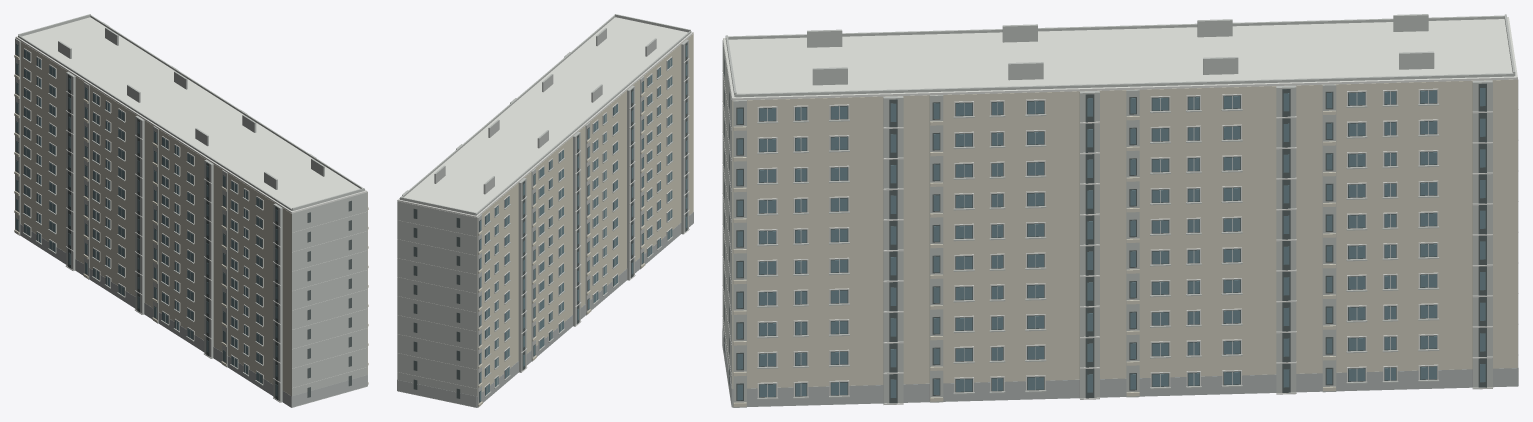
File: bespoke-olympic-athletes-village-228.glb
The picture shows the model from 3 angles, left to right: view 1: azimuth 30°, elevation 25°; view 2: azimuth 150°, elevation 25°; view 3: azimuth 270°, elevation 25°; orthographic projection. The views are drawn at different scales.
Parts seen in each view (by area): view 1: Olympic228_editable_Olympic228_warm_cream_long_facade, Olympic228_editable_Olympic228_pale_grey_end_and_service_wal, Olympic228_editable_Olympic228_broad_white_facade_frames, Olympic228_editable_Olympic228_turquoise_balcony_glazing, Olympic228_editable_Olympic228_narrow_recessed_window_bank, Olympic228_editable_Olympic228_light_grey_solid_wall; view 2: Olympic228_editable_Olympic228_pale_grey_end_and_service_wal, Olympic228_editable_Olympic228_warm_cream_long_facade, Olympic228_editable_Olympic228_broad_white_facade_frames, Olympic228_editable_Olympic228_turquoise_balcony_glazing, Olympic228_editable_Olympic228_narrow_recessed_window_bank, Olympic228_editable_Olympic228_light_grey_solid_wall; view 3: Olympic228_editable_Olympic228_warm_cream_long_facade, Olympic228_editable_Olympic228_broad_white_facade_frames, Olympic228_editable_Olympic228_pale_grey_end_and_service_wal, Olympic228_editable_Olympic228_turquoise_balcony_glazing, Olympic228_editable_Olympic228_narrow_recessed_window_bank, Olympic228_editable_Olympic228_light_grey_solid_wall.
Boxes of the visible parts, bbox=[...] form: Olympic228_editable_Olympic228_warm_cream_long_facade: bbox=[14, 41, 368, 395]; Olympic228_editable_Olympic228_pale_grey_end_and_service_wal: bbox=[15, 14, 367, 407]; Olympic228_editable_Olympic228_broad_white_facade_frames: bbox=[15, 17, 367, 407]; Olympic228_editable_Olympic228_turquoise_balcony_glazing: bbox=[16, 44, 277, 396]; Olympic228_editable_Olympic228_narrow_recessed_window_bank: bbox=[16, 43, 351, 400]; Olympic228_editable_Olympic228_light_grey_solid_wall: bbox=[20, 224, 367, 407]; Olympic228_editable_Olympic228_pale_grey_end_and_service_wal: bbox=[397, 14, 691, 407]; Olympic228_editable_Olympic228_warm_cream_long_facade: bbox=[477, 33, 693, 406]; Olympic228_editable_Olympic228_broad_white_facade_frames: bbox=[397, 17, 693, 407]; Olympic228_editable_Olympic228_turquoise_balcony_glazing: bbox=[479, 45, 687, 401]; Olympic228_editable_Olympic228_narrow_recessed_window_bank: bbox=[413, 42, 687, 402]; Olympic228_editable_Olympic228_light_grey_solid_wall: bbox=[397, 212, 693, 407]; Olympic228_editable_Olympic228_warm_cream_long_facade: bbox=[732, 79, 1517, 406]; Olympic228_editable_Olympic228_broad_white_facade_frames: bbox=[722, 17, 1518, 406]; Olympic228_editable_Olympic228_pale_grey_end_and_service_wal: bbox=[722, 14, 1518, 407]; Olympic228_editable_Olympic228_turquoise_balcony_glazing: bbox=[737, 88, 1485, 400]; Olympic228_editable_Olympic228_narrow_recessed_window_bank: bbox=[724, 59, 1486, 403]; Olympic228_editable_Olympic228_light_grey_solid_wall: bbox=[722, 328, 1518, 407].
Size of the model in its own units: 17 by 30.5 by 67.76.
